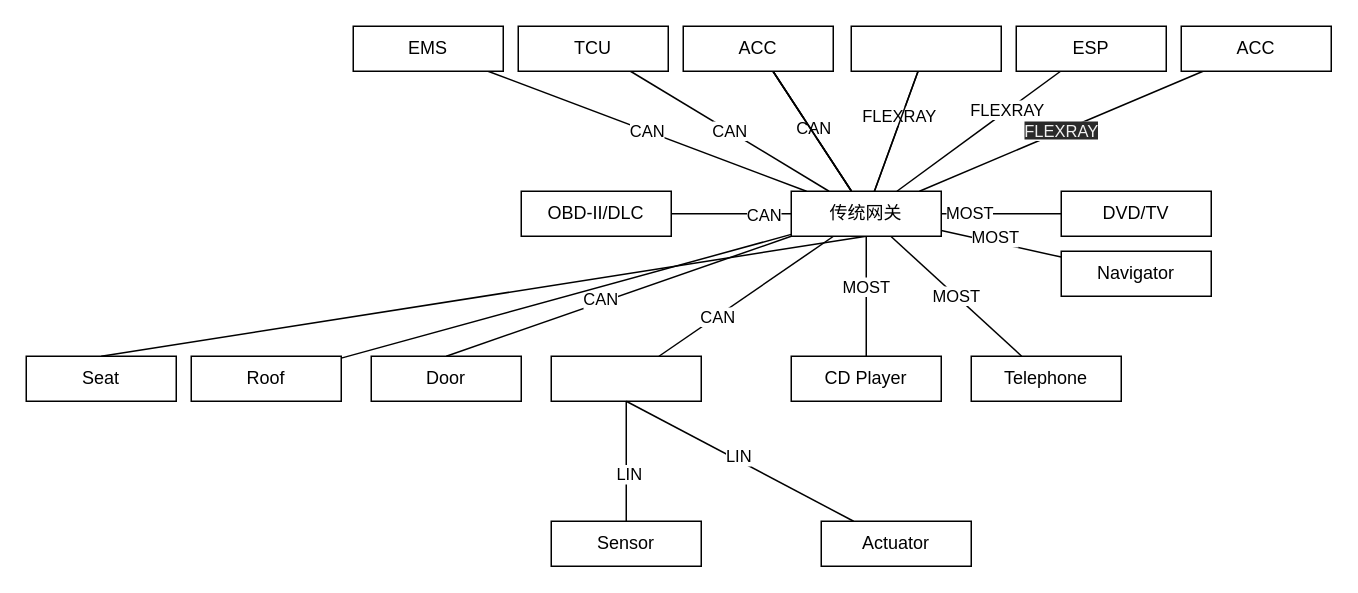
Image size: 1358x593. Some labels were removed from this diagram. The box of each missing label's shape, as (x1, y1, x2, y2) in pixels:
BCM: (550, 355, 701, 401)
EPS: (850, 25, 1001, 71)
